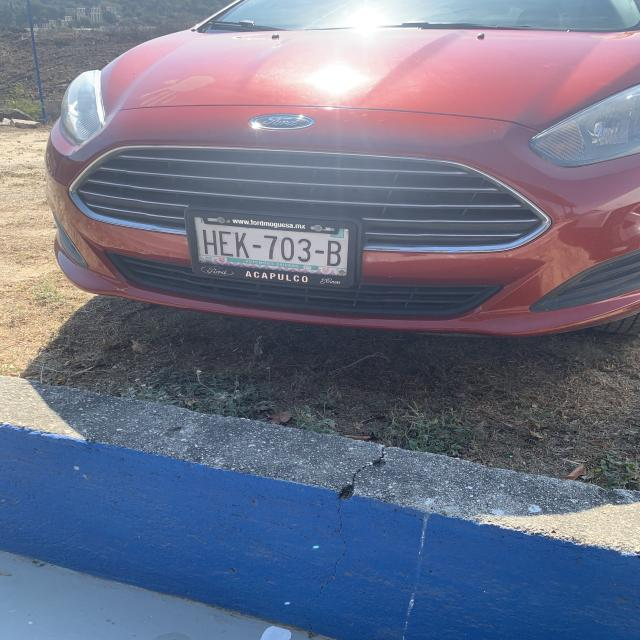placa: (197, 223, 346, 269)
